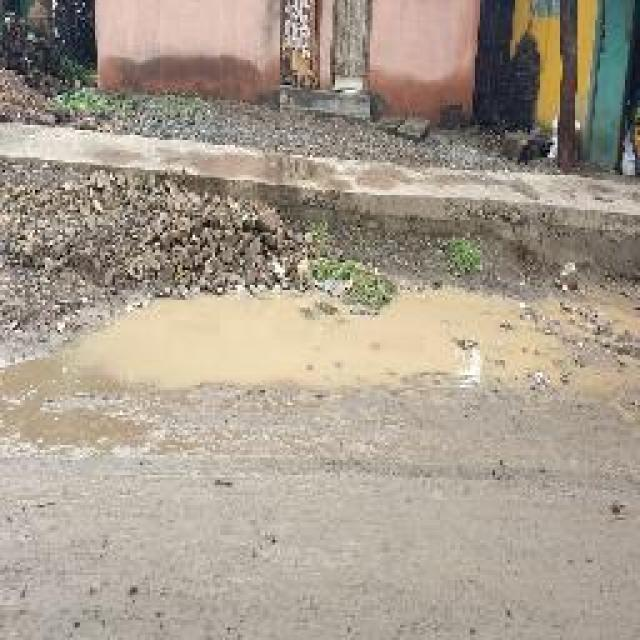stagnation: (18, 303, 635, 407)
